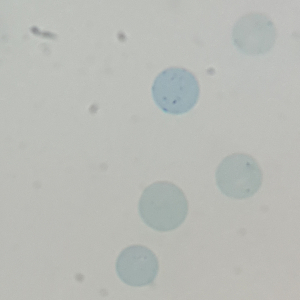erythrocyte: (137, 180, 191, 233), (114, 244, 160, 288)
punctate reticulocyte: (150, 66, 202, 116), (214, 152, 263, 201), (230, 11, 278, 57)
